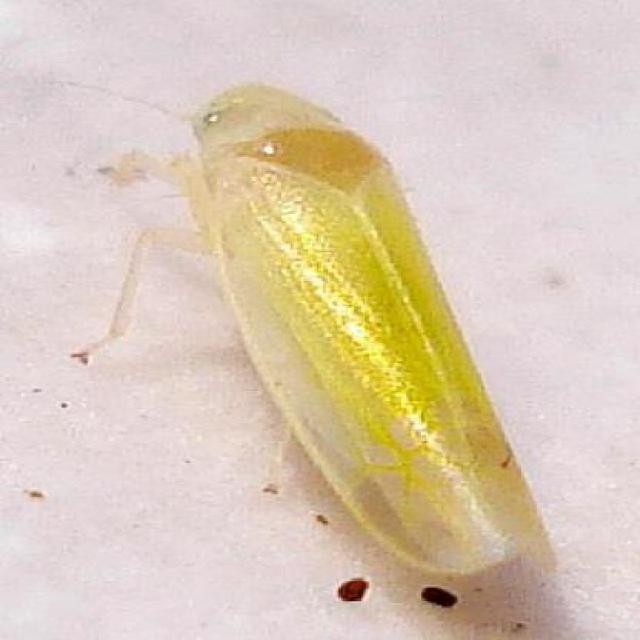green-leafhopper: (170, 82, 552, 573)
